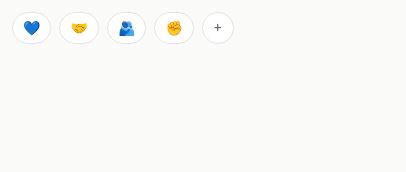
Test: ReactionBar › shows a mutation error
This screenshot has width=406, height=172.
Click the button "💙". click: [32, 28]
box: top-left (12, 12), bottom-right (52, 44)
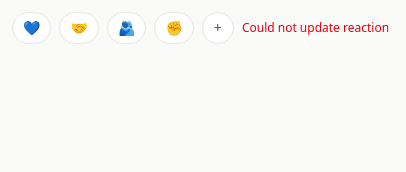
Expected: the text "Could not update reaction" is shown, top-left (242, 20), bottom-right (389, 36)
